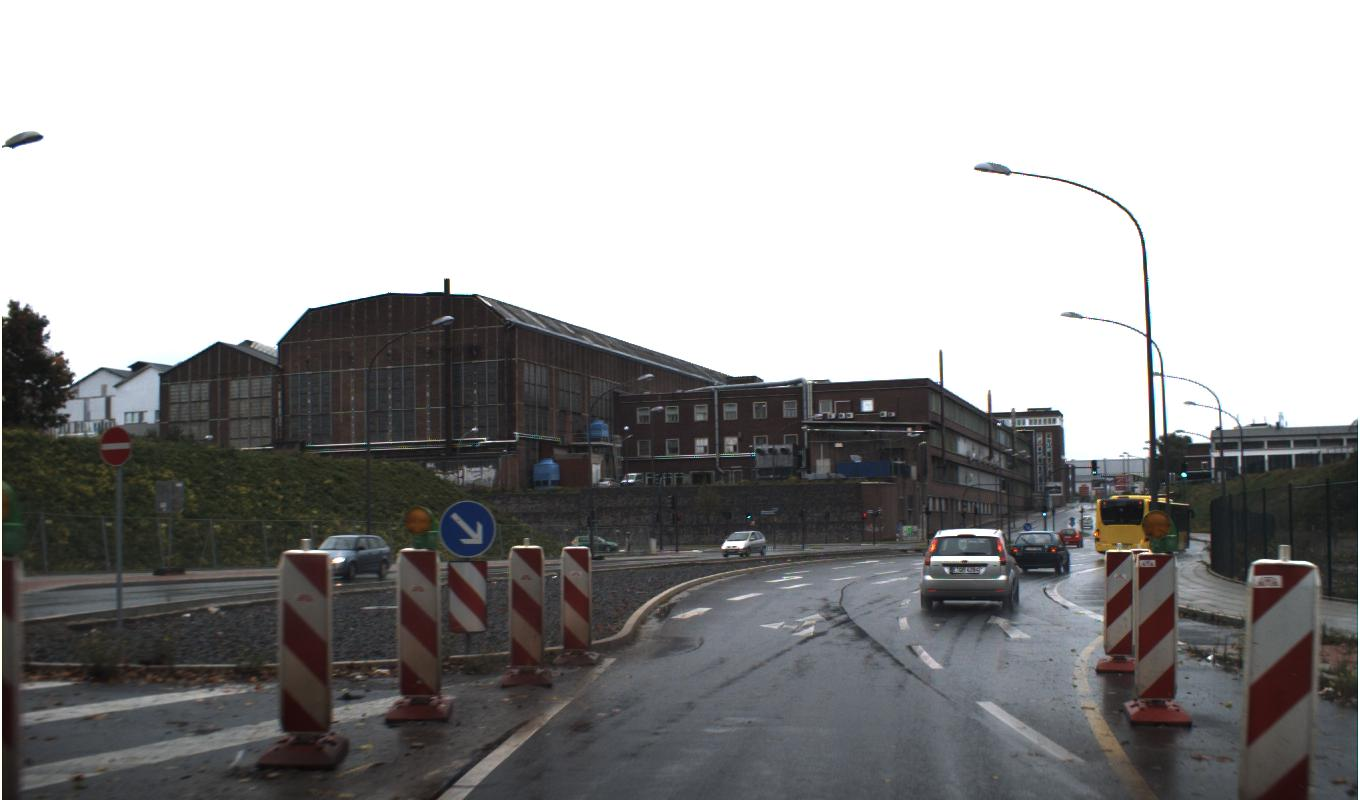mandatory: (438, 500, 496, 558)
sign: (99, 425, 131, 466)
